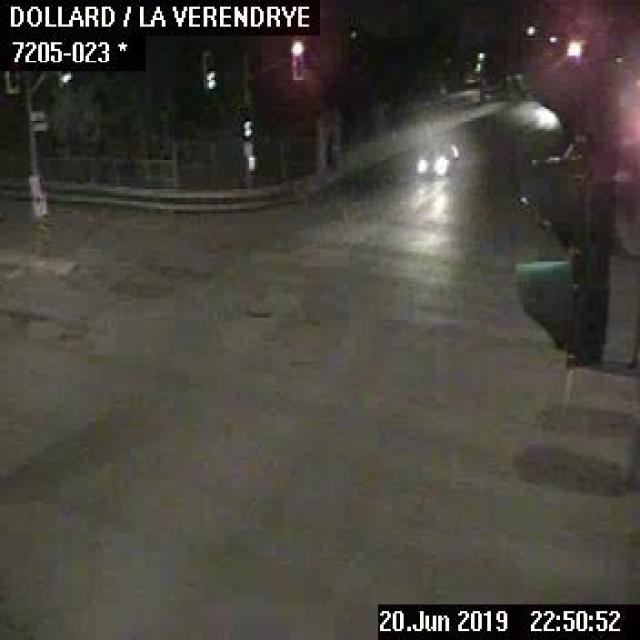vehicle: (413, 138, 460, 178)
